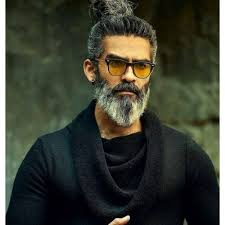b.y: (108, 82, 143, 125)
